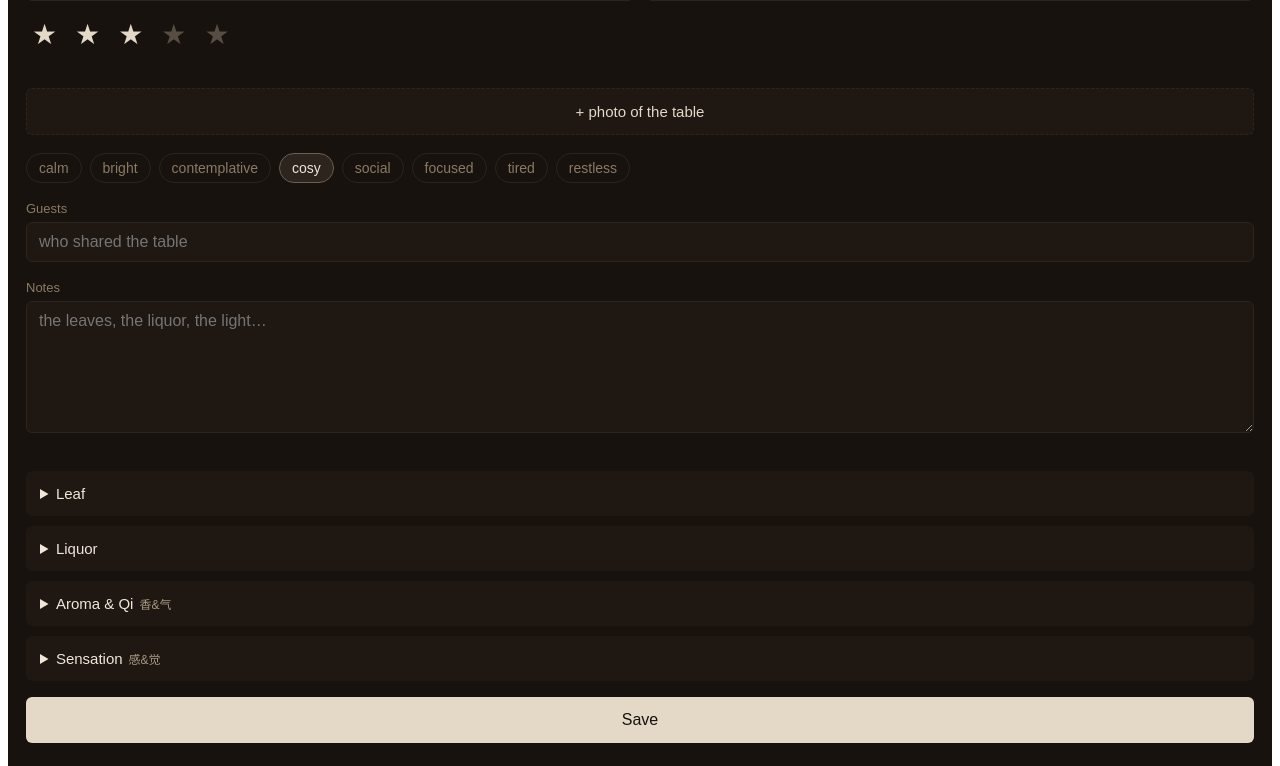
JournalFormPage — edit › shows the server's refusal
(page scrolled)
Click the button with test id "jform-save": (640, 720) [26,697,1254,743]
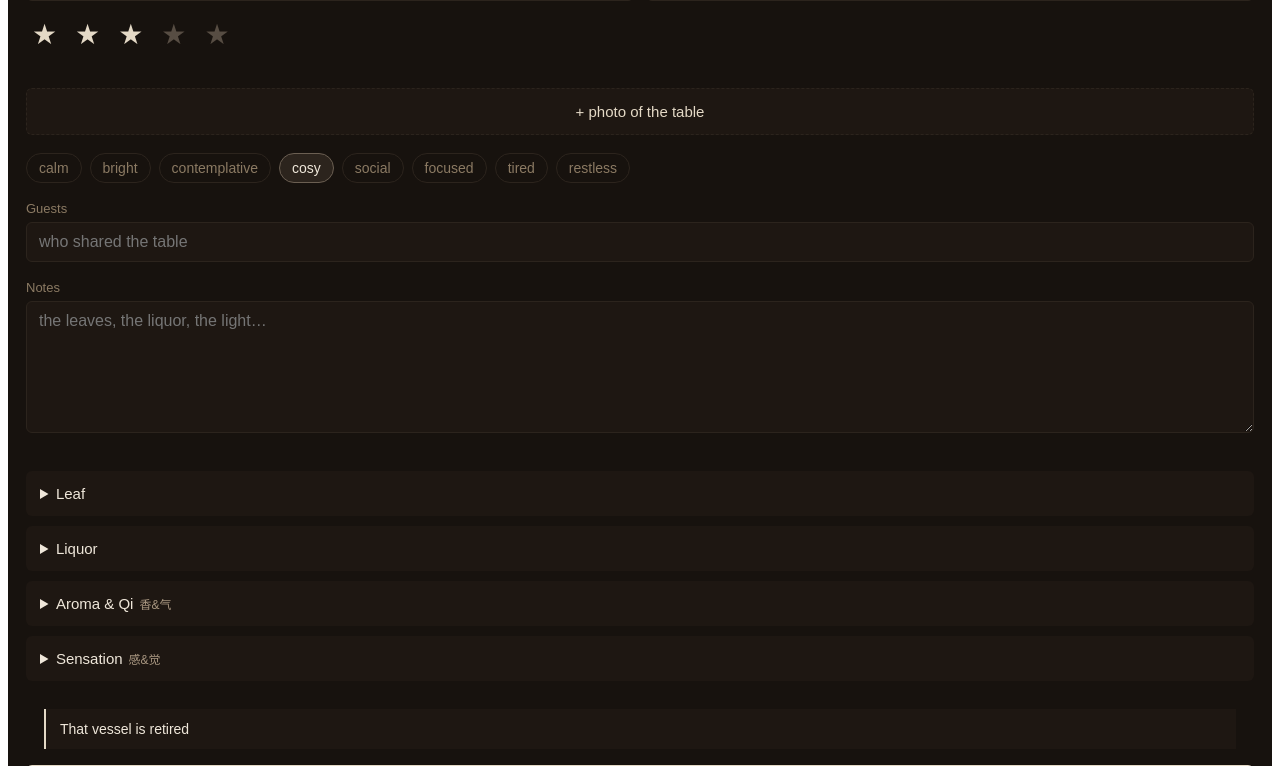
Check: the text with test id "jform-error" reads "That vessel is retired", box [60,721,189,737]
